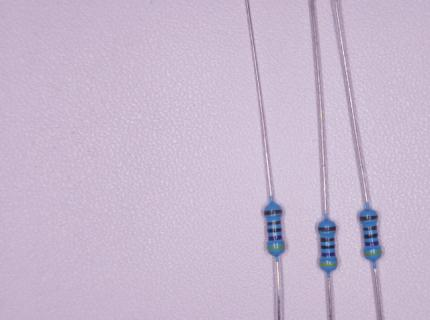Black band: (364, 233, 378, 239), (268, 228, 282, 233), (320, 245, 335, 249)
Brown band: (360, 215, 378, 221), (318, 226, 336, 231), (264, 210, 282, 215), (267, 220, 281, 226), (363, 226, 377, 231), (321, 237, 334, 242)
Violet band: (365, 241, 379, 246), (321, 252, 335, 257), (268, 236, 282, 241)
Yellow band: (364, 250, 382, 256), (267, 246, 285, 250), (320, 262, 338, 266)
